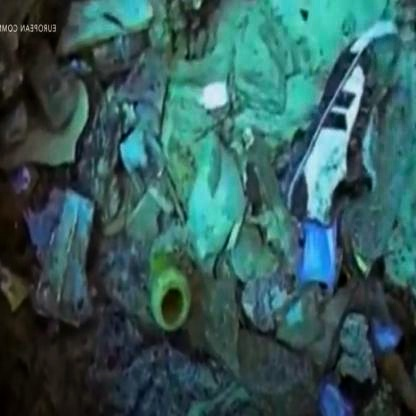can: (138, 252, 197, 326)
misc: (300, 1, 392, 264)
